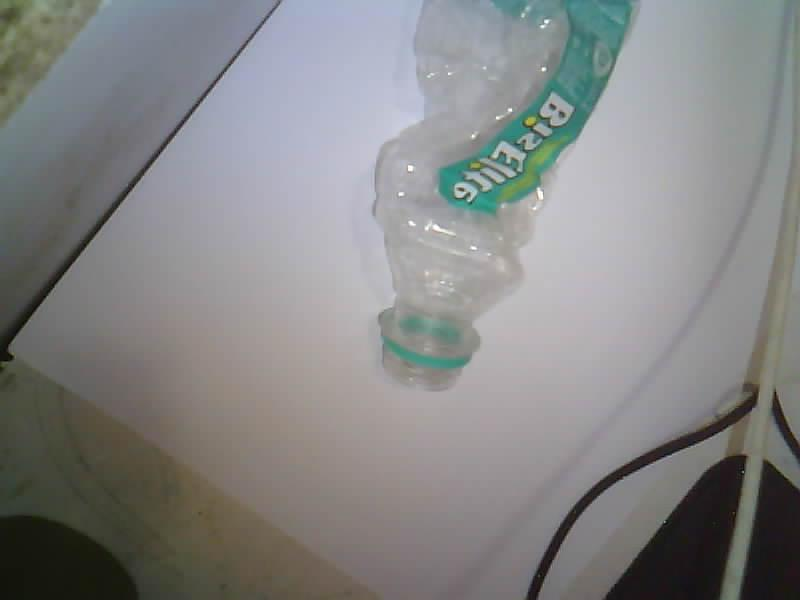non-biodegradable: (374, 0, 636, 389)
